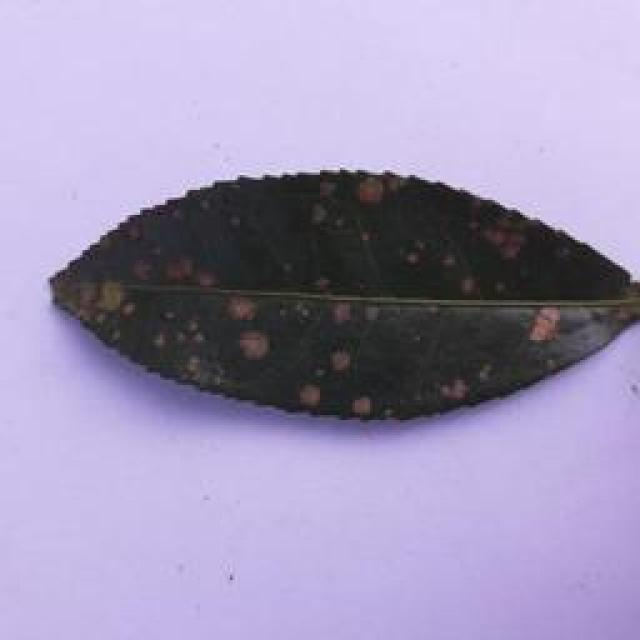Algal Leaf Spot: (47, 160, 640, 414)
